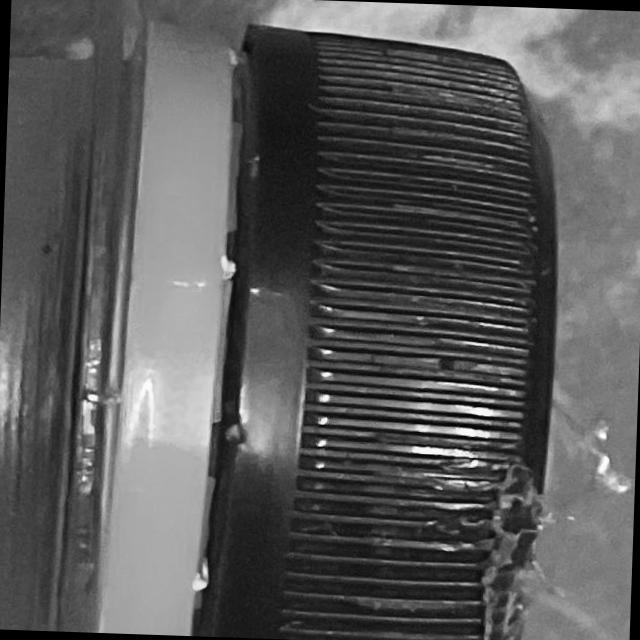Good-cap-Df0S: (73, 0, 570, 640)
